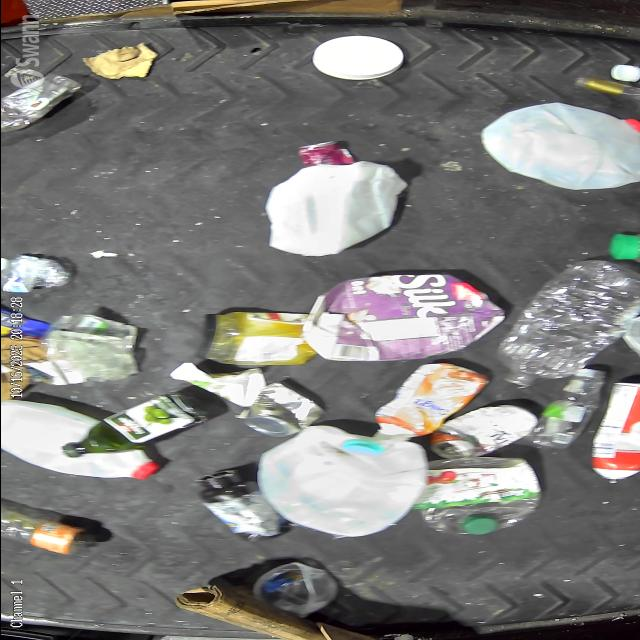can: (424, 398, 542, 461), (230, 394, 333, 436)
milk_jug: (258, 438, 438, 539), (255, 165, 405, 258), (0, 398, 162, 482), (470, 115, 640, 193)
plastic_bottle: (493, 263, 640, 391), (416, 454, 550, 536), (0, 504, 111, 558), (0, 249, 76, 298)
